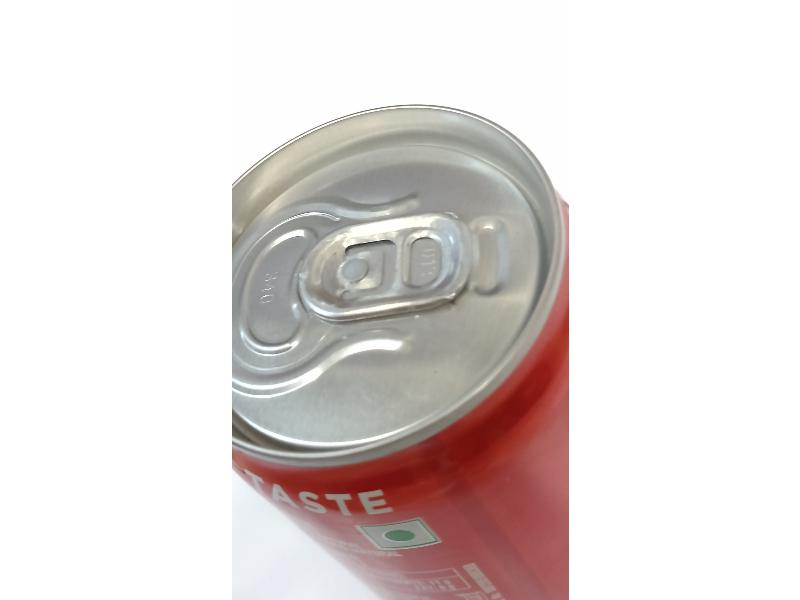can: (222, 92, 567, 577)
